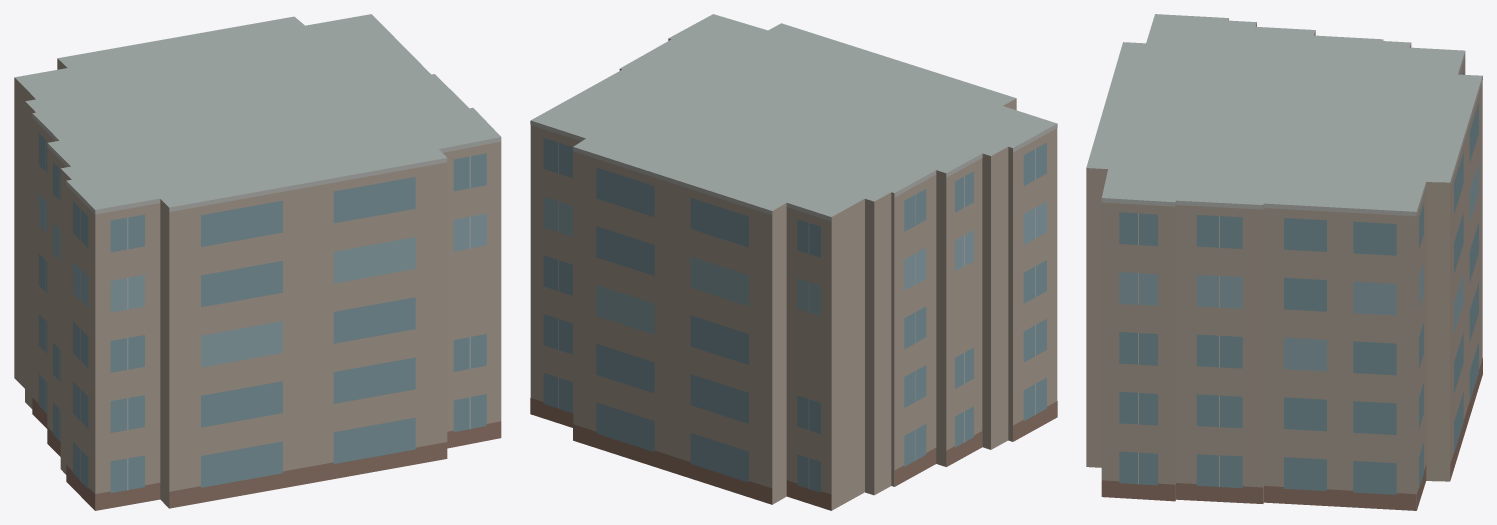
File: survey-upis-32922084.glb
3 renders of one model, left to right at view 1: azimuth 30°, elevation 25°; view 2: azimuth 150°, elevation 25°; view 3: azimuth 270°, elevation 25°, orthographic. The views are drawn at different scales.
Visible parts, largest first — view 1: survey-upis-32922084.tmp; view 2: survey-upis-32922084.tmp; view 3: survey-upis-32922084.tmp.
Boxes of the visible parts, x1,y1,x2,y2 form: survey-upis-32922084.tmp: (14,14,501,510); survey-upis-32922084.tmp: (530,14,1057,510); survey-upis-32922084.tmp: (1086,14,1482,510).
Size of the model in its own units: 23.29 by 16.4 by 19.72.
